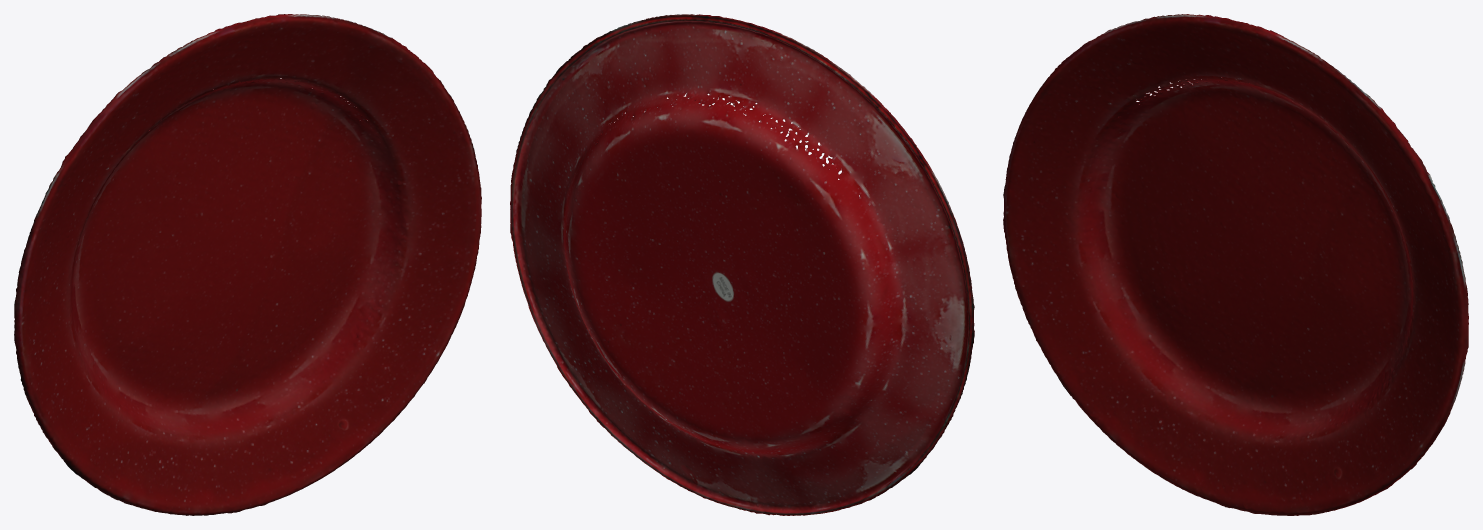
The picture shows the model from 3 angles, left to right: view 1: azimuth 30°, elevation 25°; view 2: azimuth 150°, elevation 25°; view 3: azimuth 330°, elevation 25°; orthographic projection.
Bounding box in the file's own units: 0.2601 × 0.261 × 0.0267.
